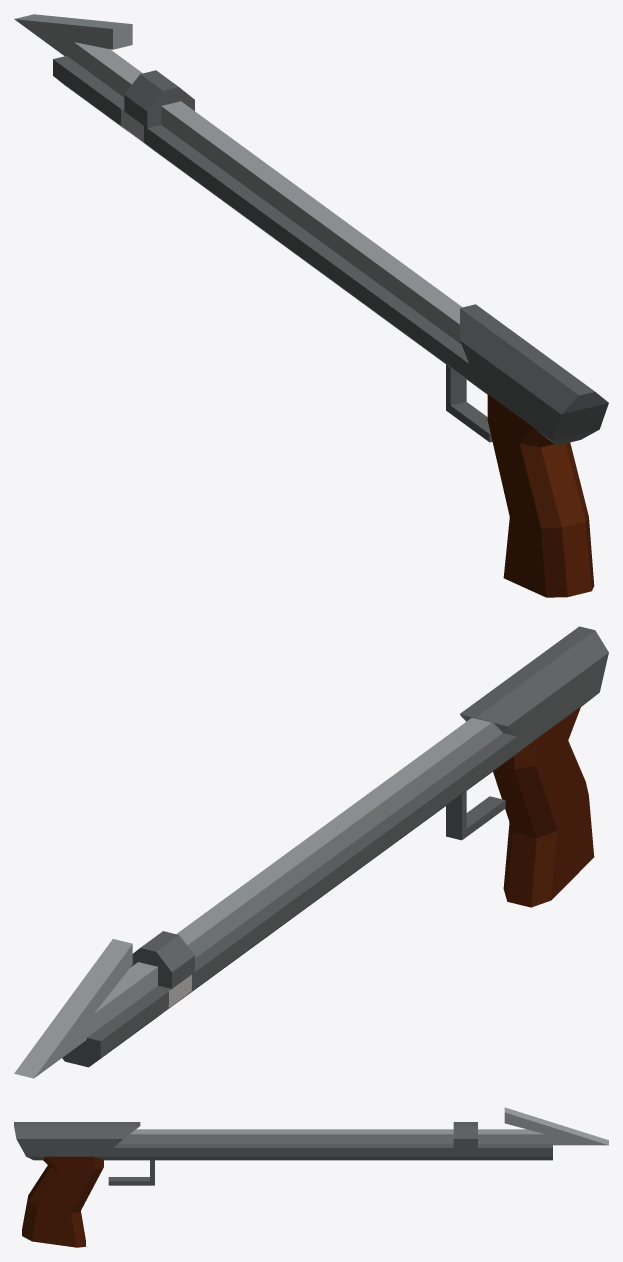
File: harpoon.gltf
3 renders of one model, top to bottom at view 1: azimuth 30°, elevation 25°; view 2: azimuth 150°, elevation 25°; view 3: azimuth 270°, elevation 25°, orthographic. The views are drawn at different scales.
Visible parts, largest first — view 1: Spear, Receiver, Grip, Clamp (×2), Guard; view 2: Spear, Receiver, Grip, Clamp (×2), Guard; view 3: Receiver, Spear, Grip, Clamp (×2), Guard.
Part boxes in pixels (bbox=[...]): Spear: bbox=[14, 14, 462, 344]; Receiver: bbox=[53, 56, 604, 445]; Grip: bbox=[487, 394, 594, 597]; Clamp (×2): bbox=[124, 70, 608, 427]; Guard: bbox=[446, 364, 492, 442]; Spear: bbox=[14, 718, 502, 1078]; Receiver: bbox=[62, 673, 604, 1067]; Grip: bbox=[493, 706, 594, 907]; Clamp (×2): bbox=[130, 626, 608, 988]; Guard: bbox=[446, 791, 505, 840]; Receiver: bbox=[21, 1144, 552, 1160]; Spear: bbox=[118, 1107, 608, 1145]; Grip: bbox=[22, 1156, 103, 1247]; Clamp (×2): bbox=[14, 1122, 477, 1147]; Guard: bbox=[108, 1160, 154, 1185].
Bounding box in the file's own units: 0.075 × 0.3803 × 1.53.
1 material, 1 textured.
